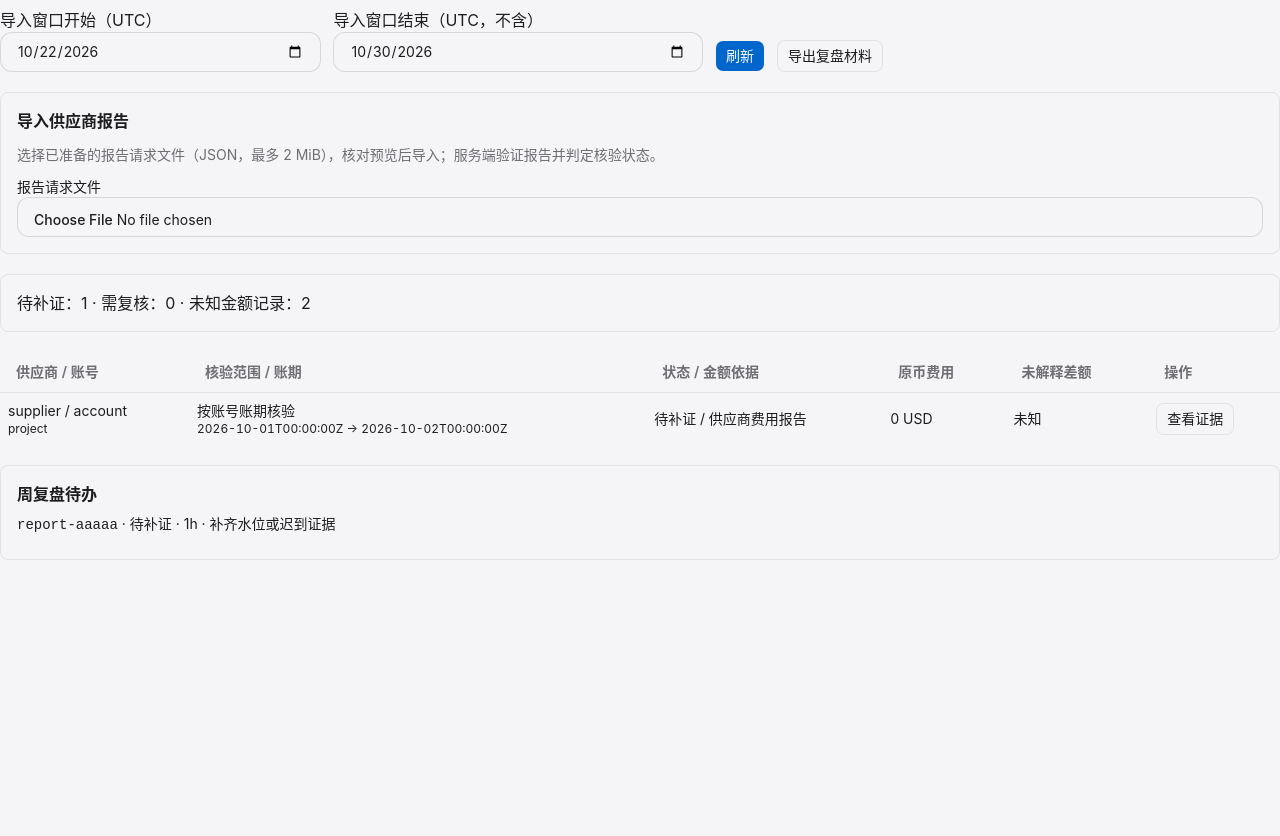
Test: supplier evidence reports › explains pending from owner evidence without changing its verdict
Step 1. Click the button "查看证据" → (1195, 418), box [1156,402,1234,434]
(page scrolled)
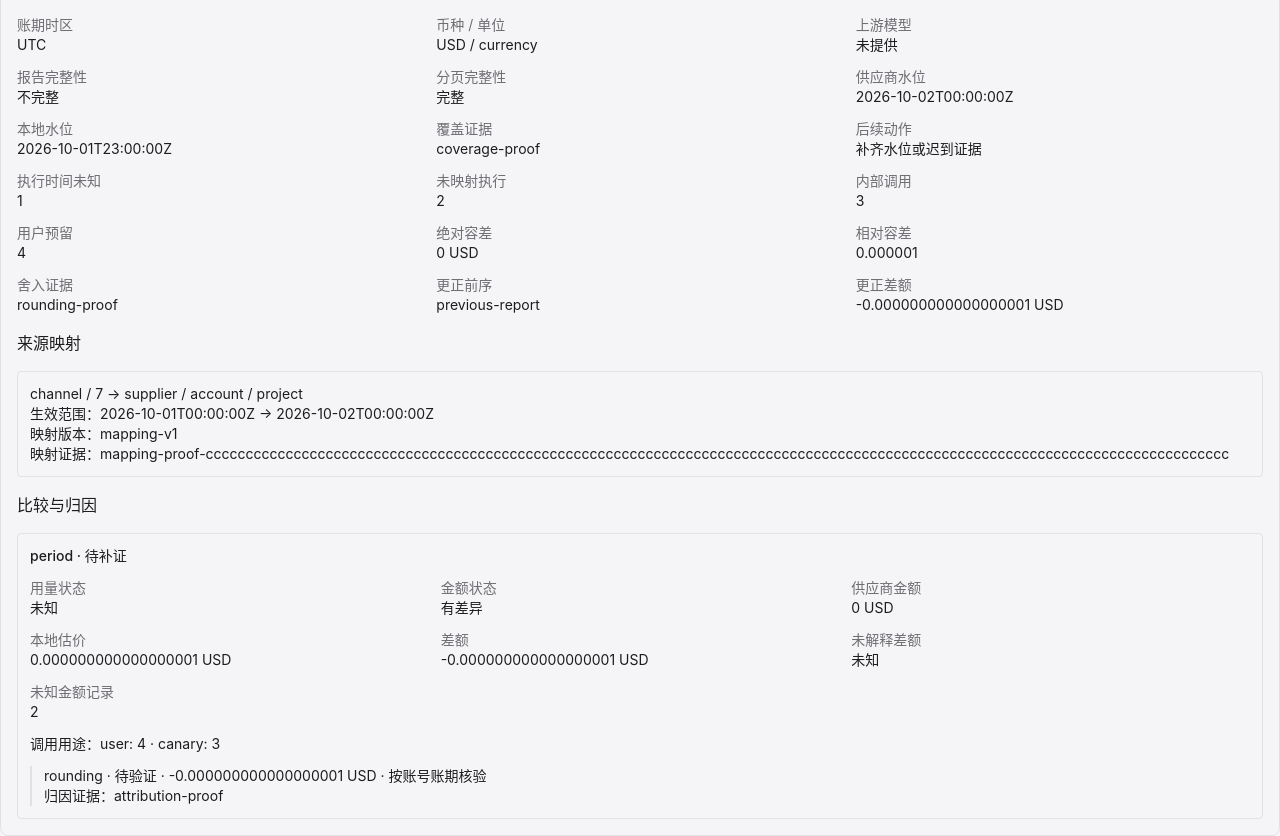
Expected: the text "完整" is shown, [17,68,87,84]
Expected: the text "coverage-proof" is shown, [436,140,540,156]
Expected: the text "mapping-v1" is shown, [100,424,178,442]
